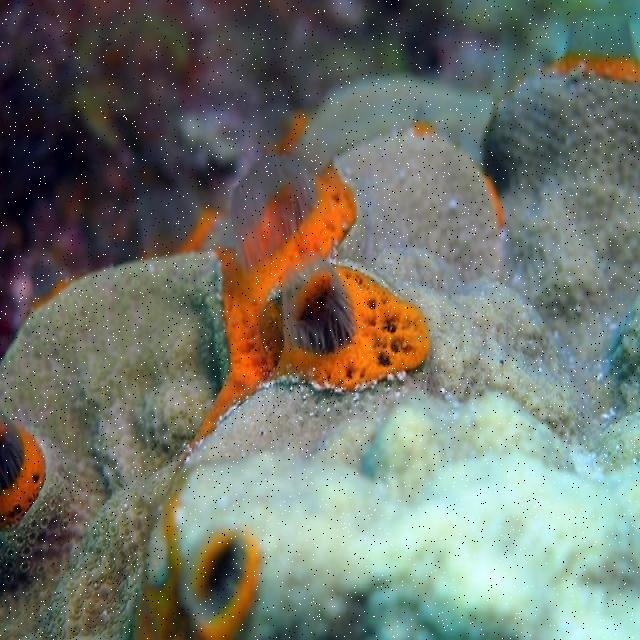reefs: (0, 12, 639, 639)
